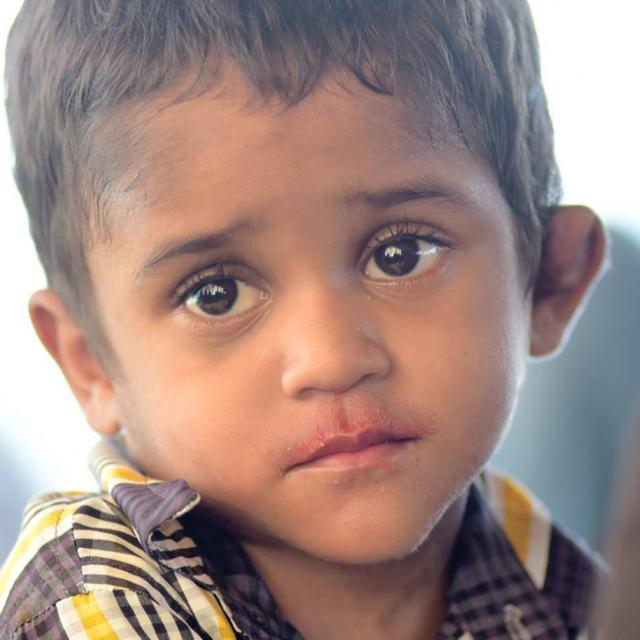Depress: (84, 67, 535, 566)
